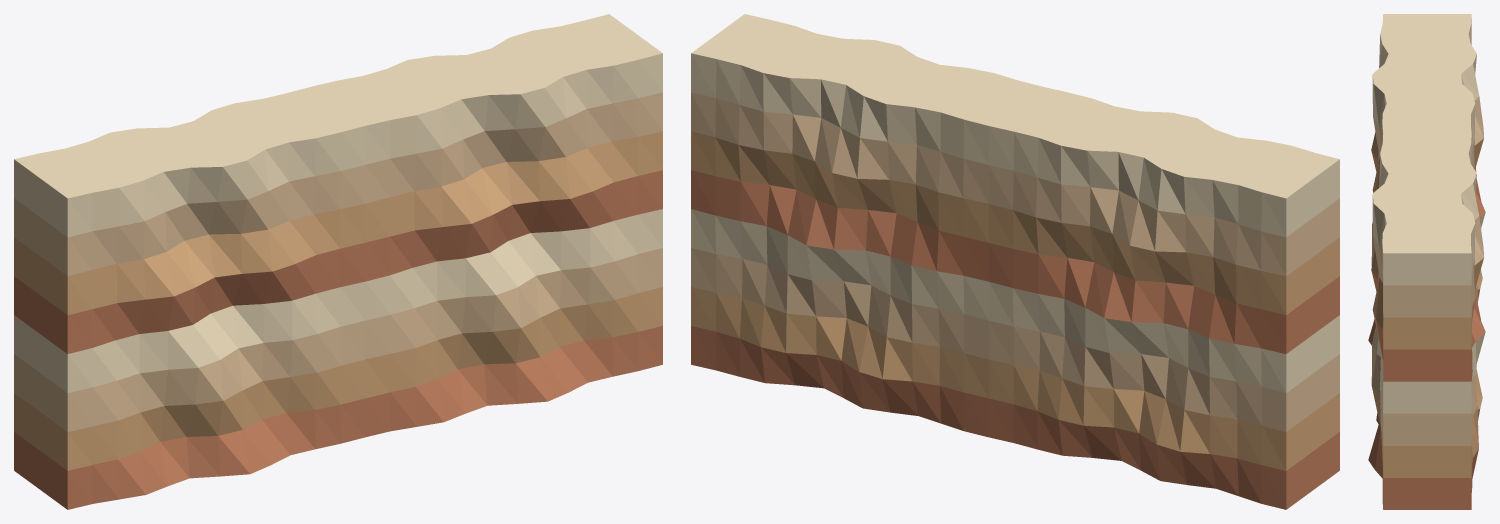
File: desert-canyons-and-oases-wide-gallery-wall-f1ed04f7__20909.glb
3 renders of one model, left to right at view 1: azimuth 30°, elevation 25°; view 2: azimuth 150°, elevation 25°; view 3: azimuth 270°, elevation 25°, orthographic. The views are drawn at different scales.
Parts seen in each view (by area): view 1: wide-gallery-wall; view 2: wide-gallery-wall; view 3: wide-gallery-wall.
Part boxes in pixels (<box>): wide-gallery-wall: <box>14,14,662,509</box>; wide-gallery-wall: <box>691,14,1339,509</box>; wide-gallery-wall: <box>1368,14,1485,509</box>.
Size of the model in its own units: 8 by 4 by 1.66.
